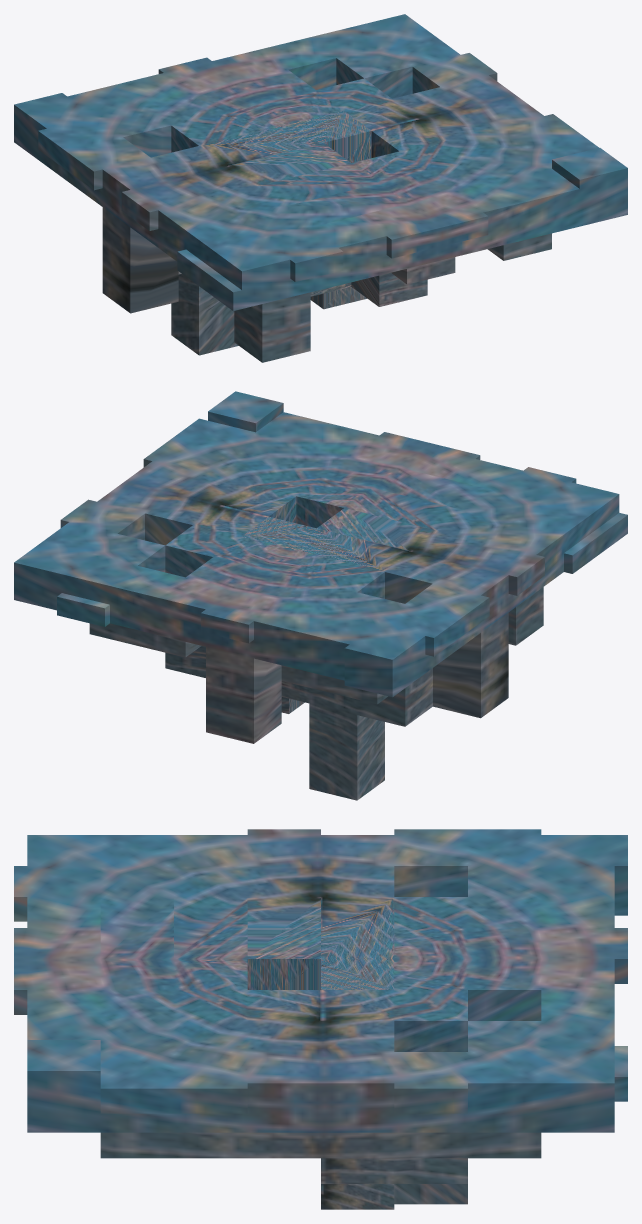
File: floatplat.fbx
3 views of the same model, one above another, from view 1: azimuth 30°, elevation 25°; view 2: azimuth 150°, elevation 25°; view 3: azimuth 270°, elevation 25° (orthographic). The views are drawn at different scales.
Visible parts, largest first — view 1: floplat4; view 2: floplat4; view 3: floplat4.
Part boxes in pixels (x1,y1,x2,y2): floplat4: (14,14,627,362); floplat4: (14,391,627,800); floplat4: (14,829,627,1209).
Bounding box in the file's own units: 14.15 × 7.33 × 14.15.
